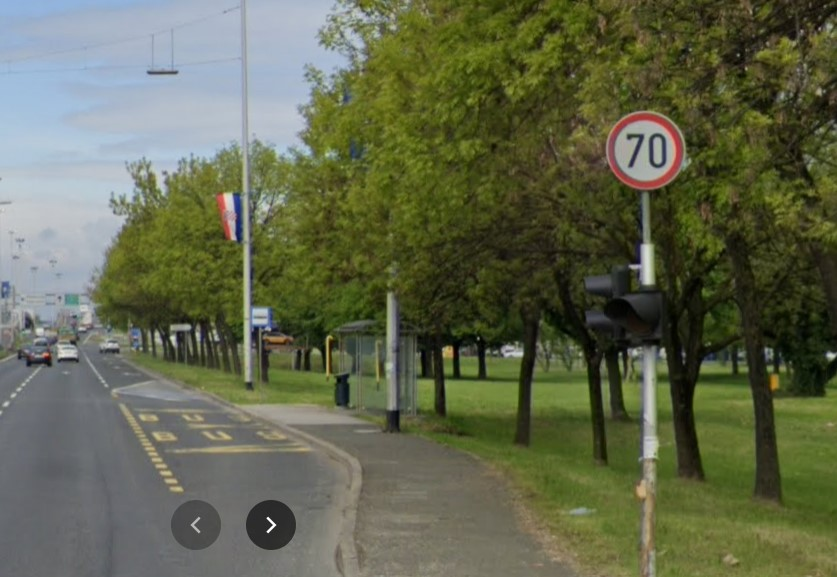Ograničenje brzine 70: (605, 111, 686, 189)
